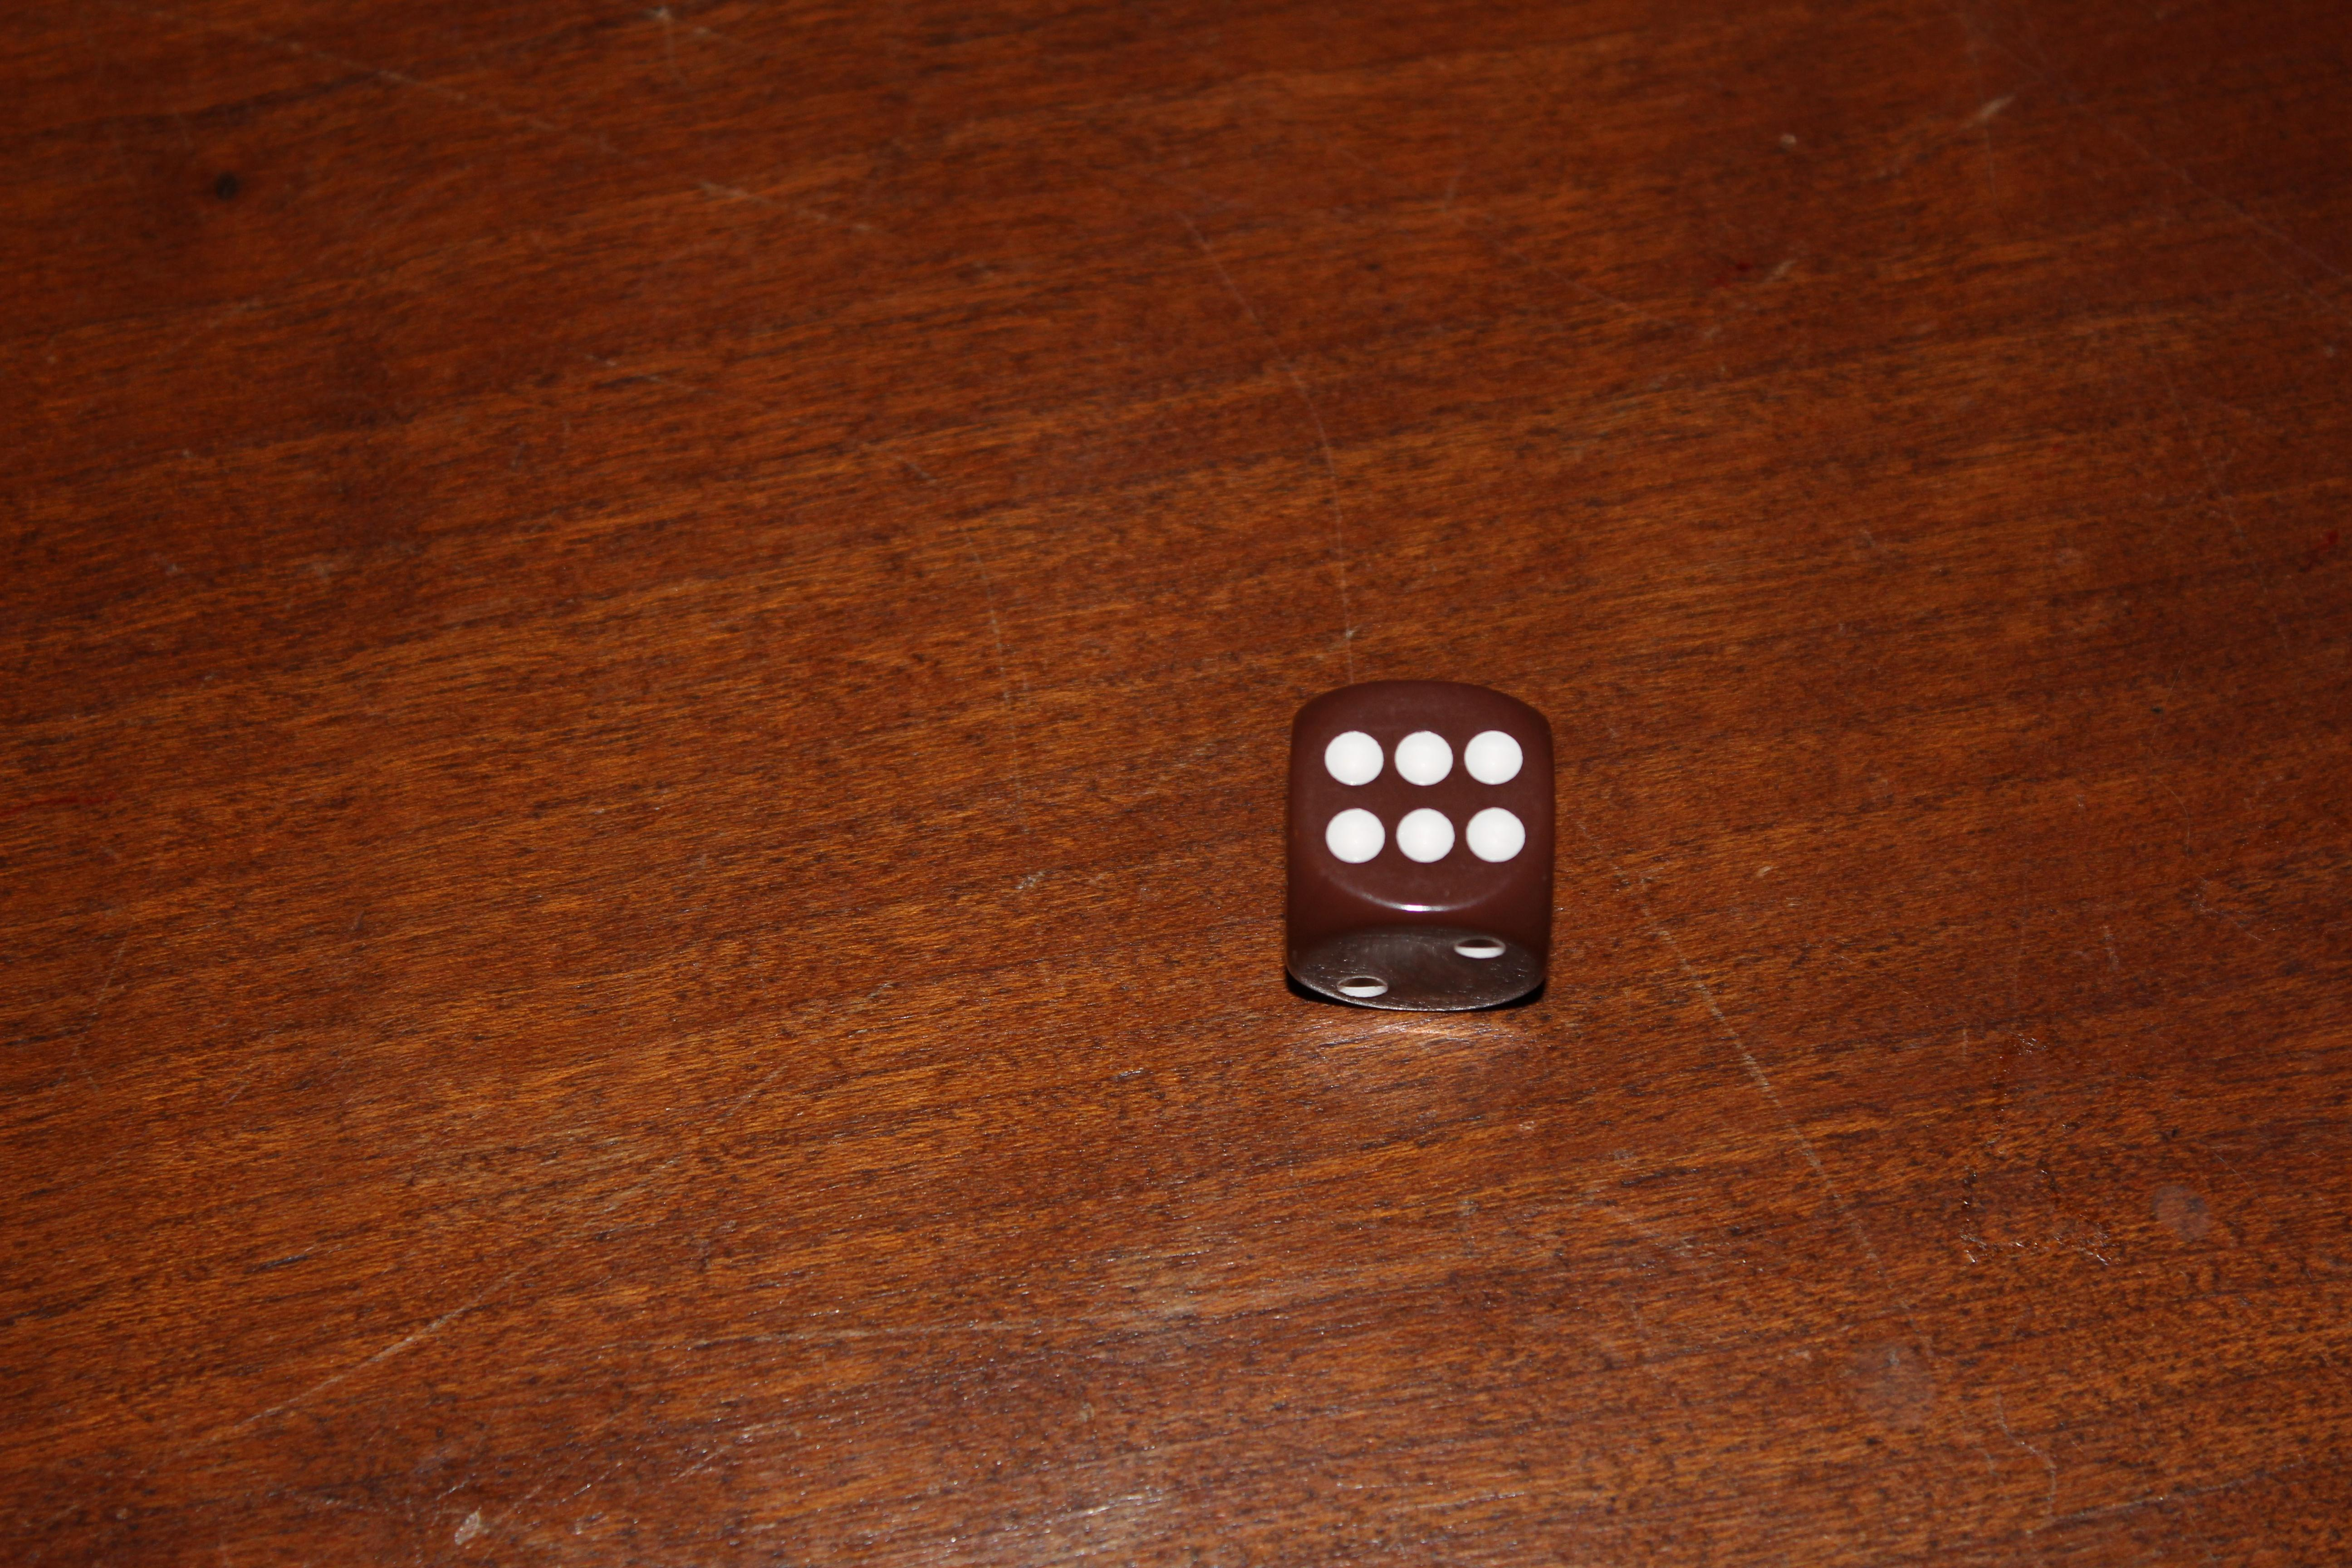brownDie: (1218, 640, 1613, 1064)
